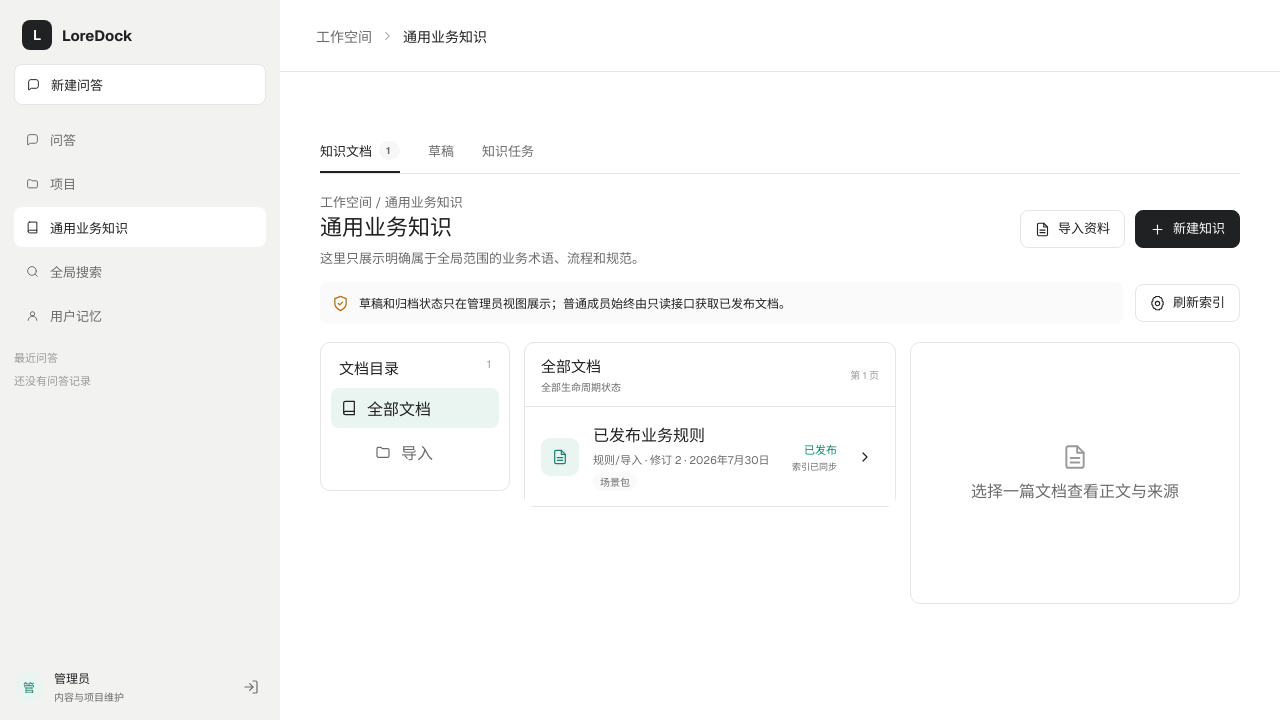
Test case: KnowledgeWorkspaceView › shows a failed reindex job without interrupting document browsing
Click the button with test id "reindex-knowledge". click: (1188,303)
box: [1135,284,1240,322]
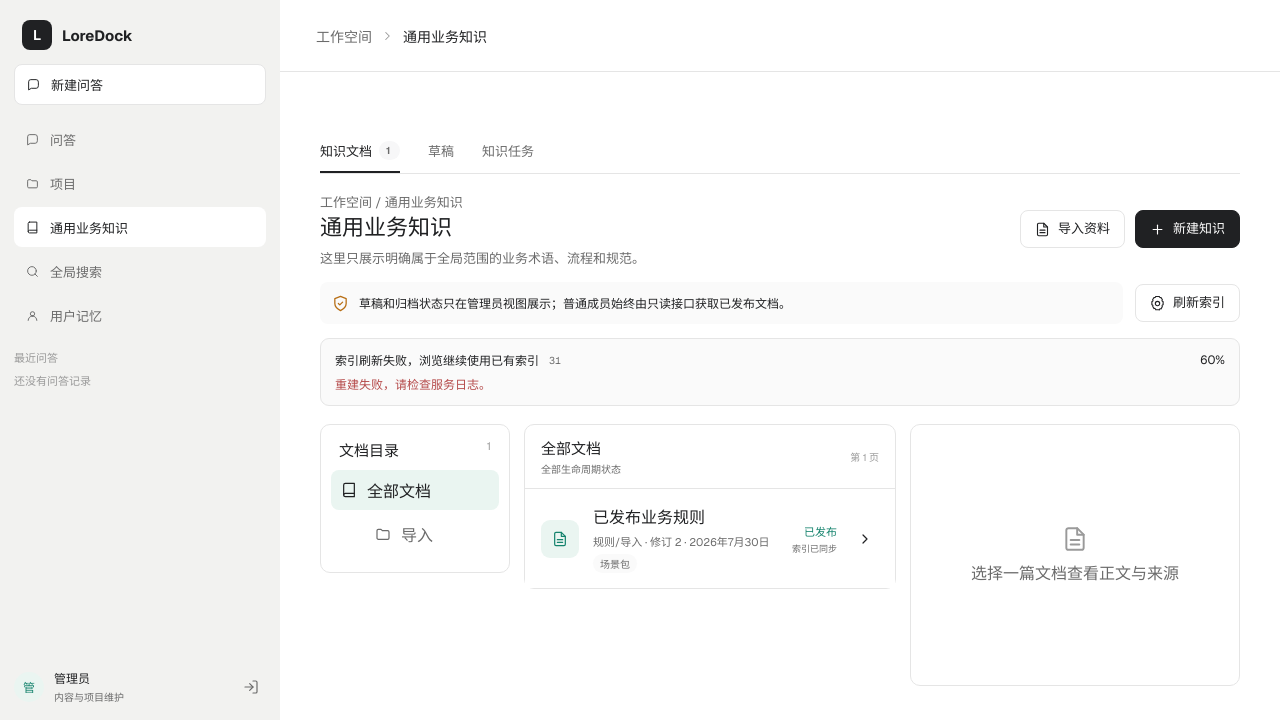
Expected: the text "已发布业务规则" is shown, [593,507,705,528]
Result: the element with test id "index-job-panel" shows "31" at [320,338,1240,406]
Result: the element with test id "index-job-panel" shows "重建失败，请检查服务日志。" at [335,377,491,393]
